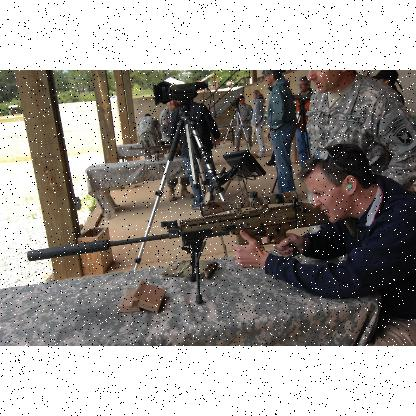gun: (26, 190, 328, 300)
